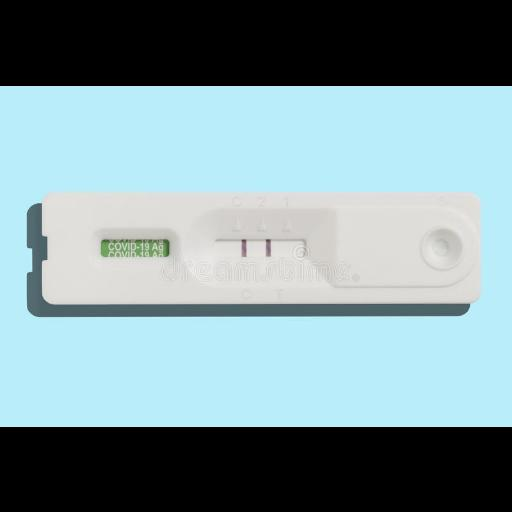Pos: (40, 192, 478, 300)
